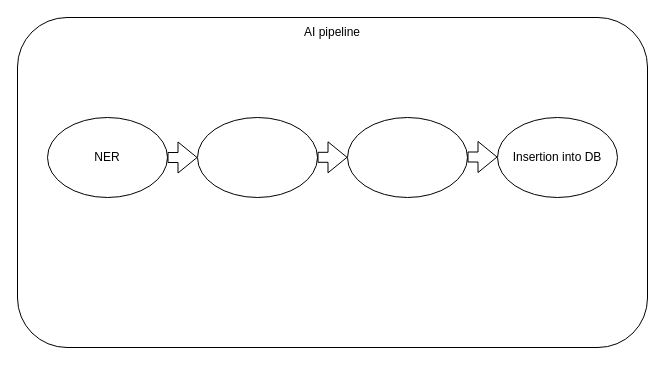
This 665x365 diagram has some shape labels left out. The centre of each missing label's shape, as x and y in pixels:
"Mapping(maybe Graph Knowledge)" goes at point 407,157.
"RE" goes at point 257,157.
